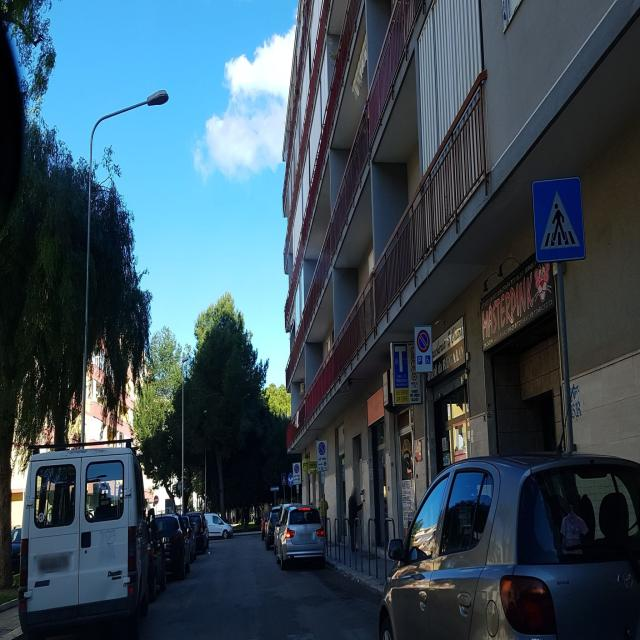forb_stopping: (416, 329, 429, 353), (318, 442, 325, 456)
